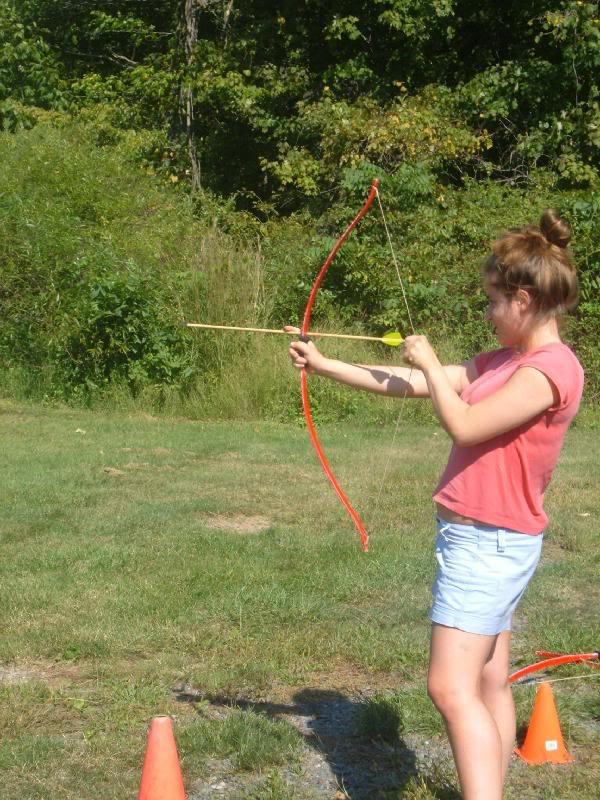person: (289, 205, 587, 800)
